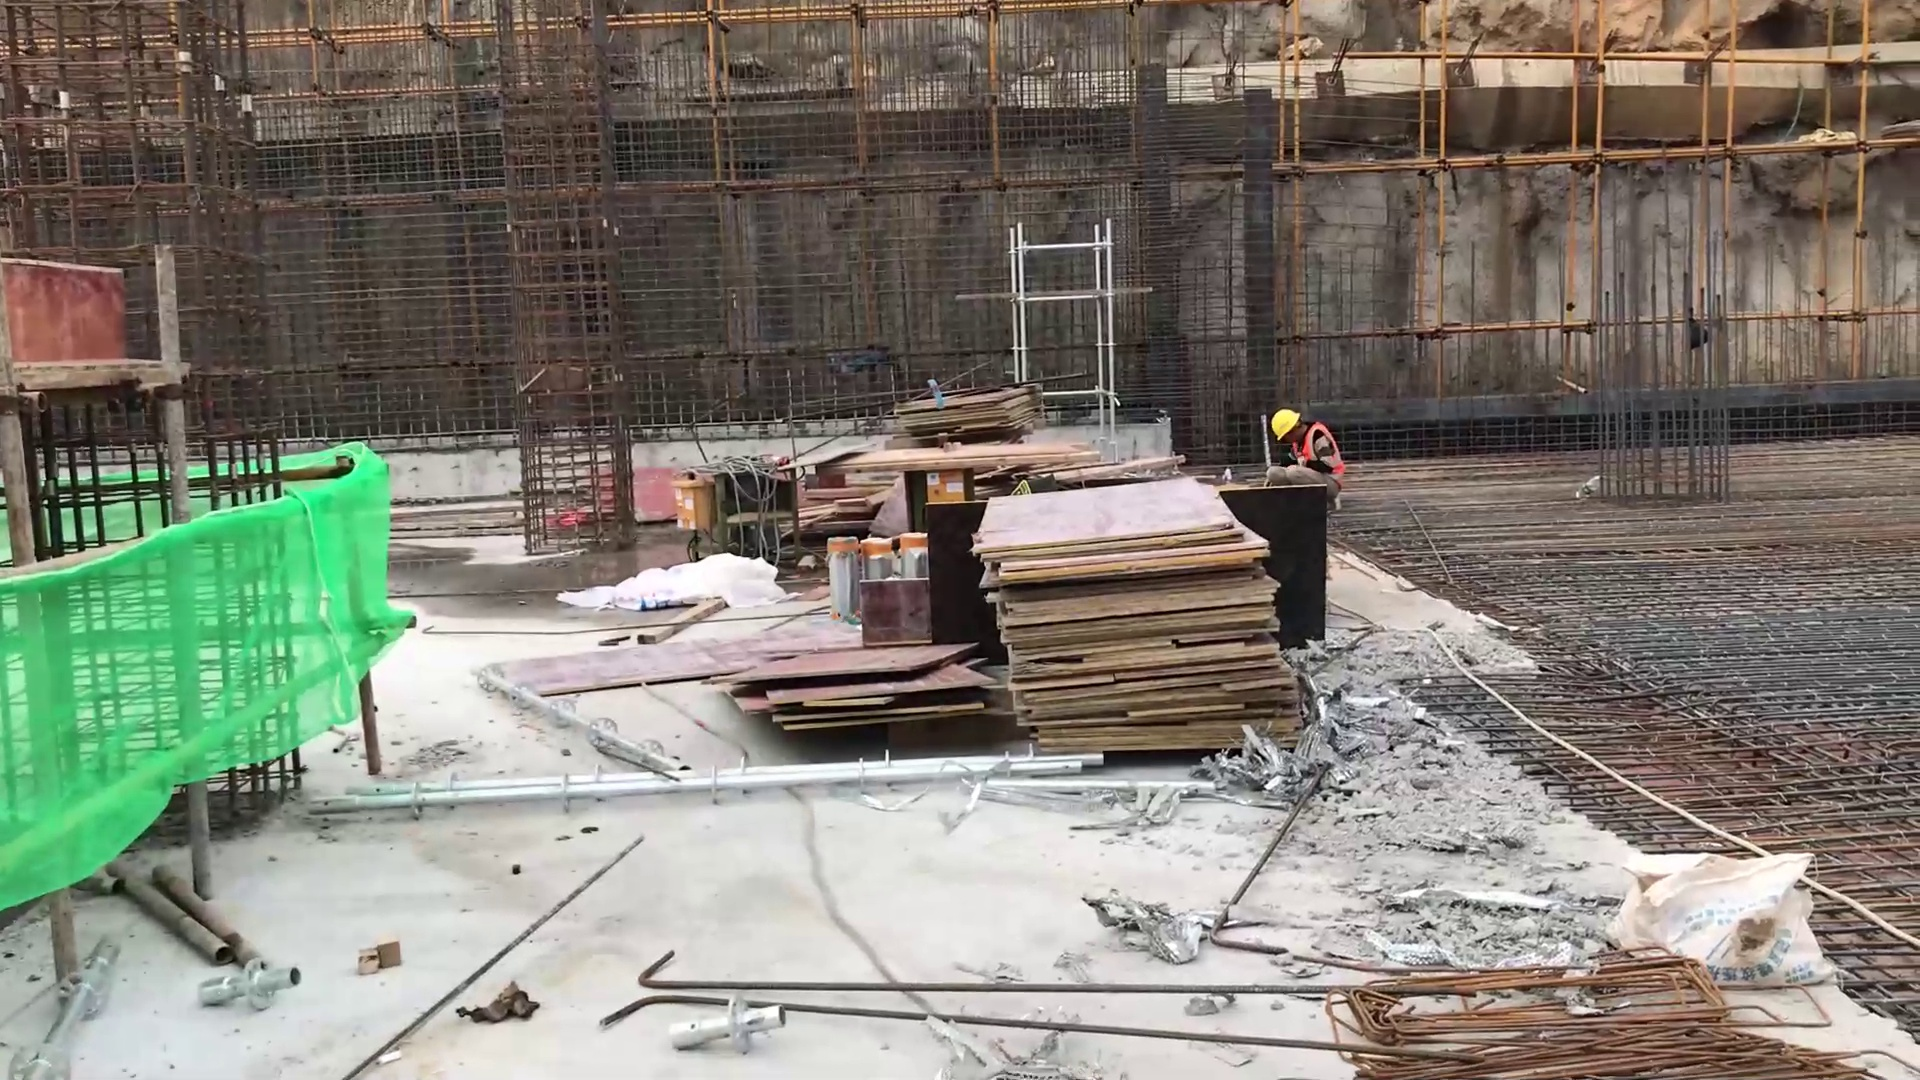board: (1004, 476, 1261, 757), (731, 644, 971, 719), (878, 387, 1073, 451)
cutter: (802, 445, 1092, 546)
ebox: (654, 479, 713, 549)
helmet: (1281, 401, 1299, 436)
person: (1269, 395, 1338, 491)
vest: (1295, 422, 1345, 476)
